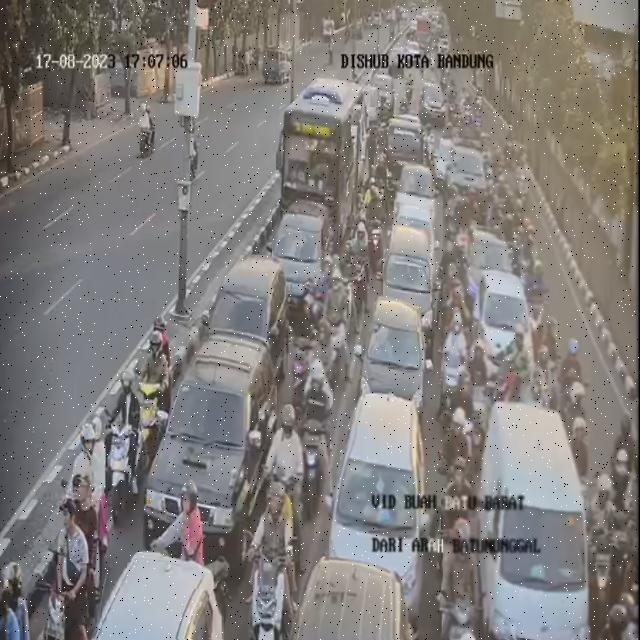bunch of motorcycle: (443, 127, 638, 638)
bus: (285, 108, 346, 230)
cars: (144, 333, 277, 581), (472, 402, 591, 640), (330, 393, 437, 627), (93, 553, 223, 639), (289, 558, 413, 639), (209, 255, 288, 377), (355, 298, 432, 407), (475, 269, 535, 375), (272, 200, 331, 306), (384, 225, 434, 332), (395, 164, 437, 253), (468, 227, 513, 299), (437, 136, 491, 192)
motorcycle: (23, 472, 102, 640), (61, 422, 118, 574), (250, 478, 299, 640), (100, 375, 152, 525), (129, 328, 179, 466), (159, 475, 217, 589), (261, 410, 305, 535), (298, 349, 330, 511), (444, 505, 482, 640), (310, 250, 350, 376), (291, 289, 333, 404), (442, 459, 478, 571), (442, 408, 476, 509), (441, 313, 465, 428), (347, 214, 370, 320), (464, 341, 489, 428)
